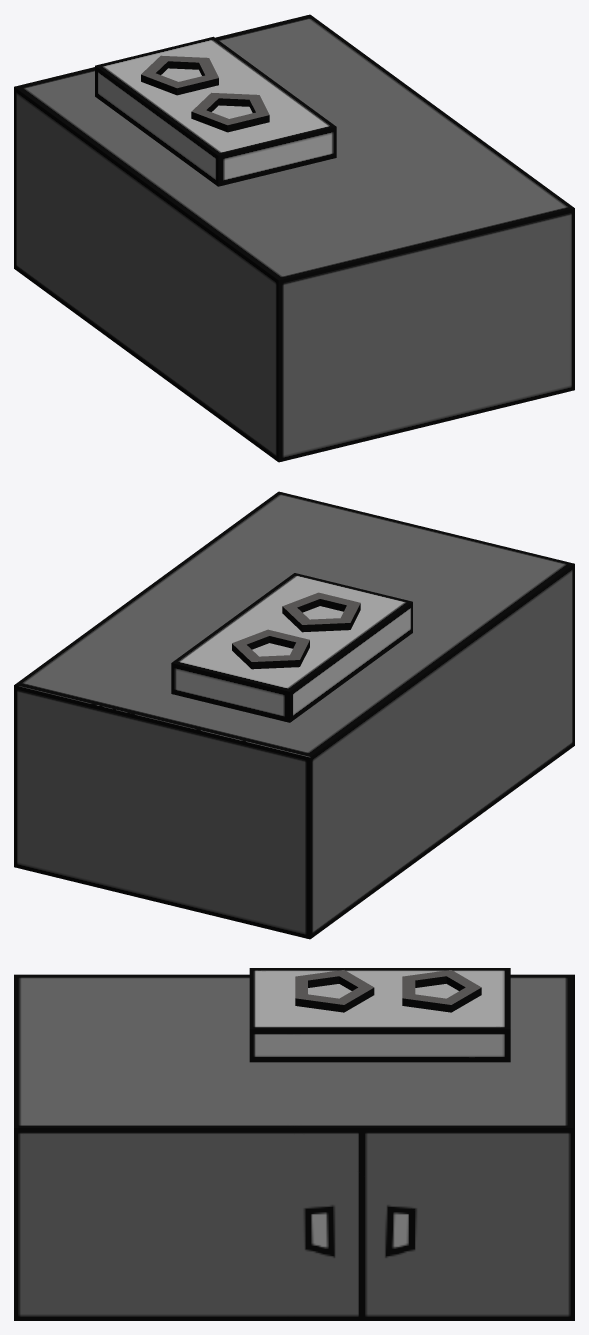
The model's file is GasBurner.fbx.
3 renders of one model, top to bottom at view 1: azimuth 30°, elevation 25°; view 2: azimuth 150°, elevation 25°; view 3: azimuth 270°, elevation 25°, orthographic. The views are drawn at different scales.
Visible parts, largest first — view 1: GasBurner; view 2: GasBurner; view 3: GasBurner.
Boxes of the visible parts, x1,y1,x2,y2 form: GasBurner: (14,14,574,462); GasBurner: (14,491,574,939); GasBurner: (14,968,574,1320).
Bounding box in the file's own units: 200 × 142 × 309.
